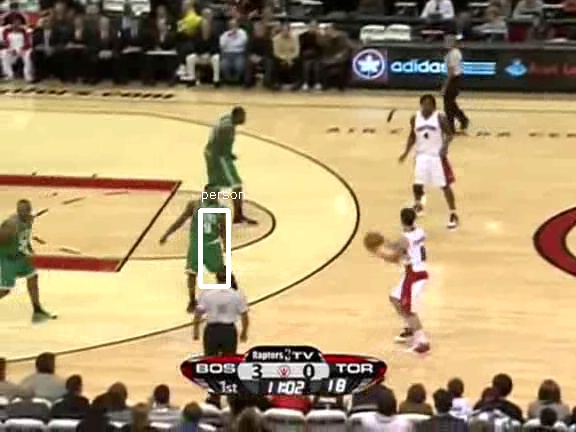person: (191, 198, 225, 279), (190, 198, 224, 279), (192, 198, 226, 279), (191, 197, 225, 278), (191, 199, 225, 280)
target_negative: (190, 164, 466, 209), (139, 410, 563, 422), (544, 317, 560, 413), (535, 177, 541, 295), (556, 320, 559, 406)
